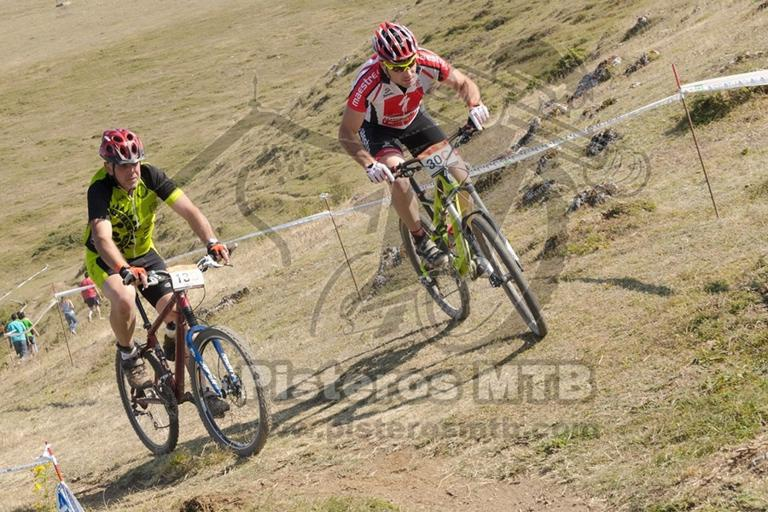non-vehicle: (372, 116, 548, 336), (112, 241, 270, 460)
